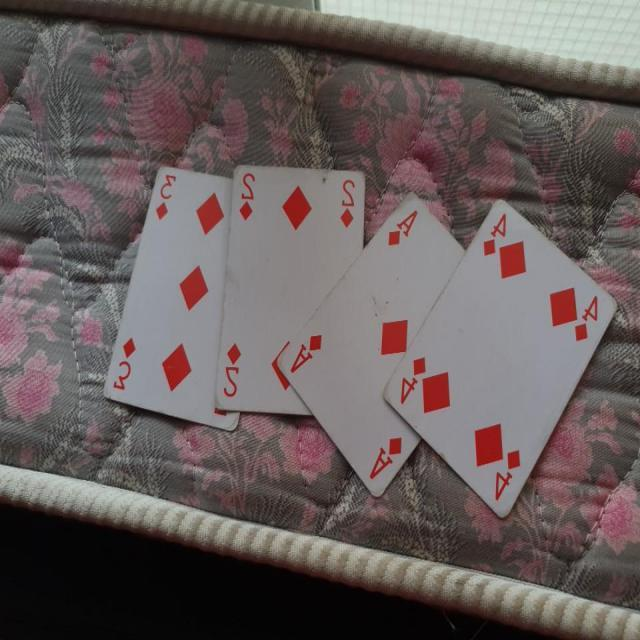2 of diamonds: (212, 164, 370, 416)
3 of diamonds: (102, 158, 238, 430)
4 of diamonds: (382, 193, 616, 520)
ace of diamonds: (276, 189, 460, 496)
